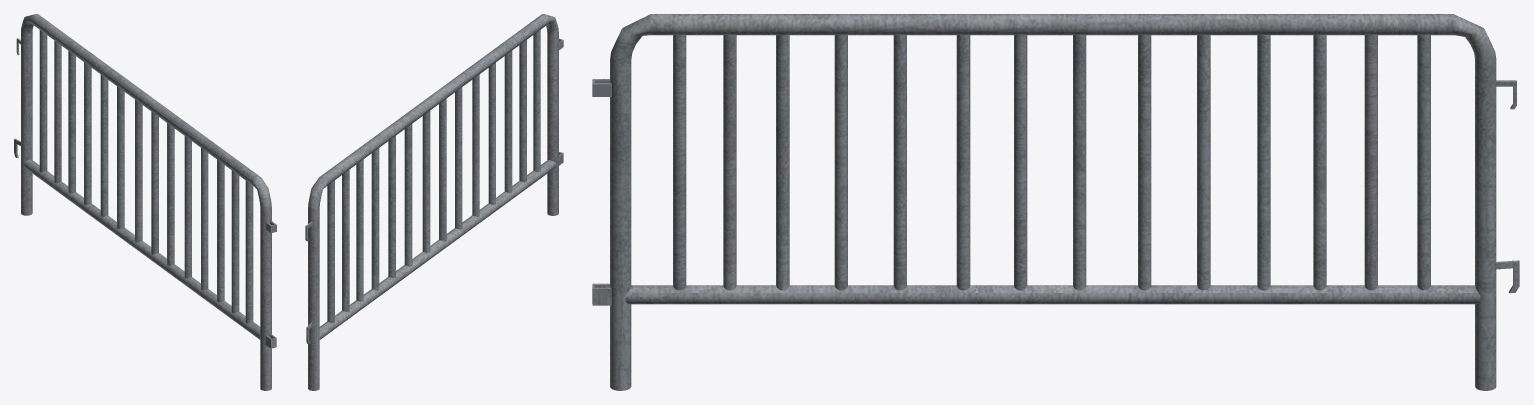
File: Gate.fbx
3 renders of one model, left to right at view 1: azimuth 30°, elevation 25°; view 2: azimuth 150°, elevation 25°; view 3: azimuth 270°, elevation 25°, orthographic. The views are drawn at different scales.
Visible parts, largest first — view 1: FenceT; view 2: FenceT; view 3: FenceT.
Boxes of the visible parts, x1,y1,x2,y2 form: FenceT: (14, 14, 276, 390); FenceT: (305, 14, 563, 390); FenceT: (592, 14, 1519, 390).
Size of the model in its own units: 0.2884 by 5.58 by 12.62.
